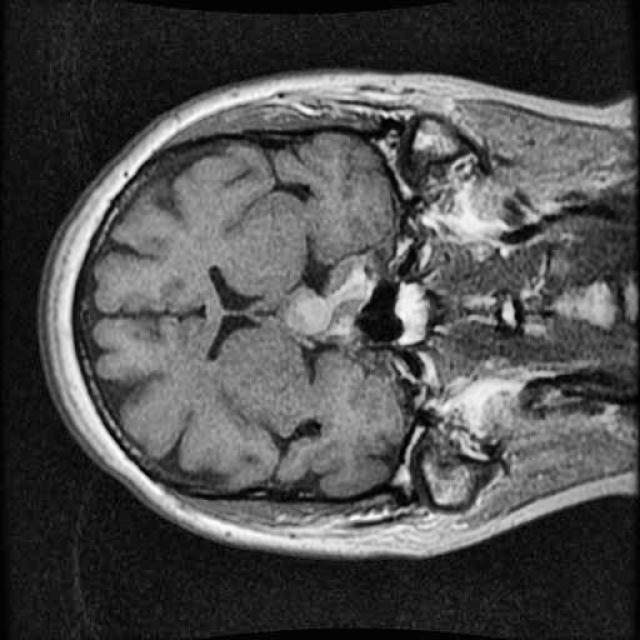Tumor: (268, 243, 382, 366)
